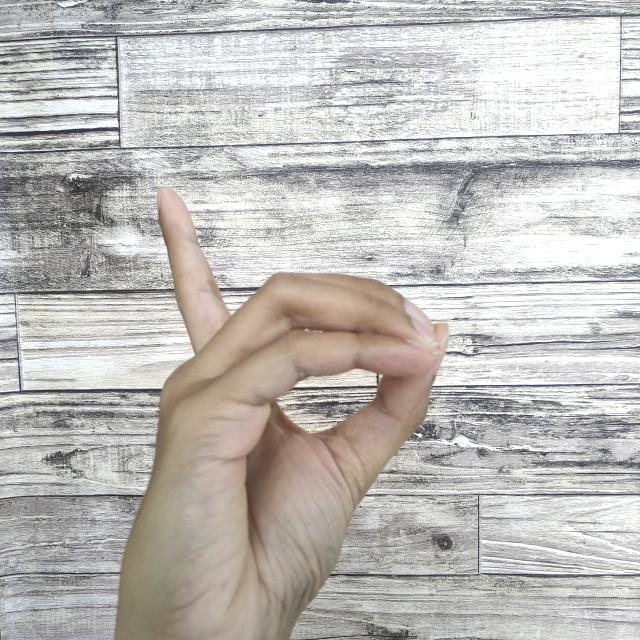D: (112, 176, 449, 640)
